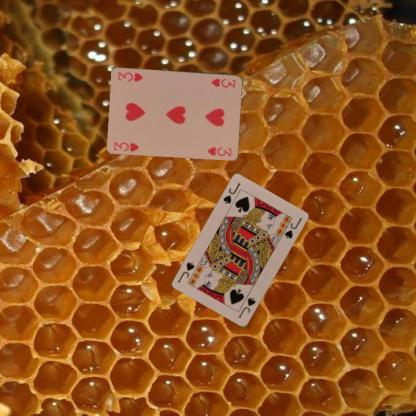3h: (208, 76, 237, 90), (112, 139, 140, 153)
Js: (221, 180, 242, 206), (236, 295, 257, 320)
